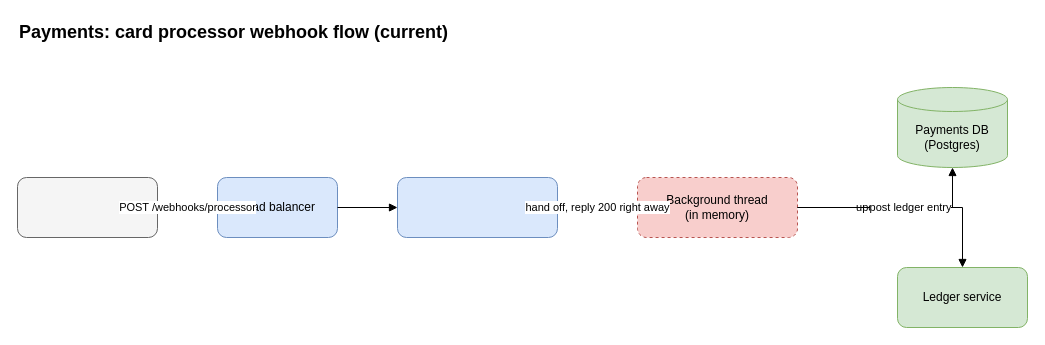
Some shapes in this 1045 by 345 pixel diagram are drawn without their labels. Here are the shapes that lost their labels. From the top down, the centre of each, then its label:
the point at 87,207: Card processor
the point at 477,207: Payments API webhook handler
